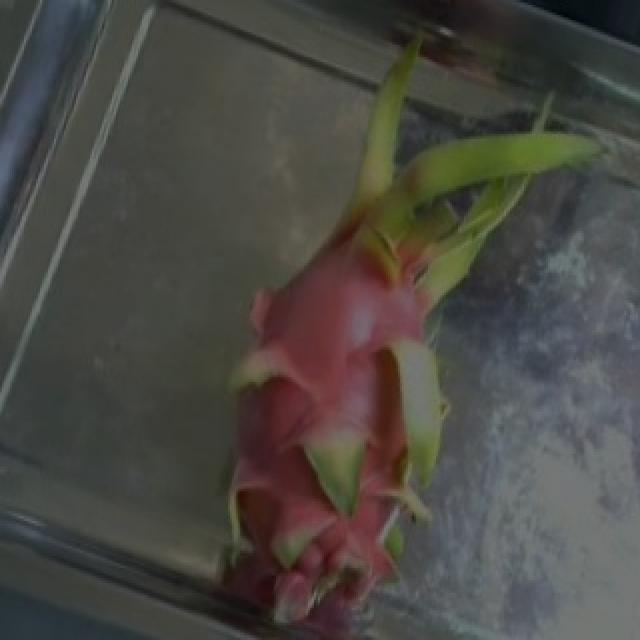fruit: (140, 216, 574, 637), (202, 0, 634, 382)
